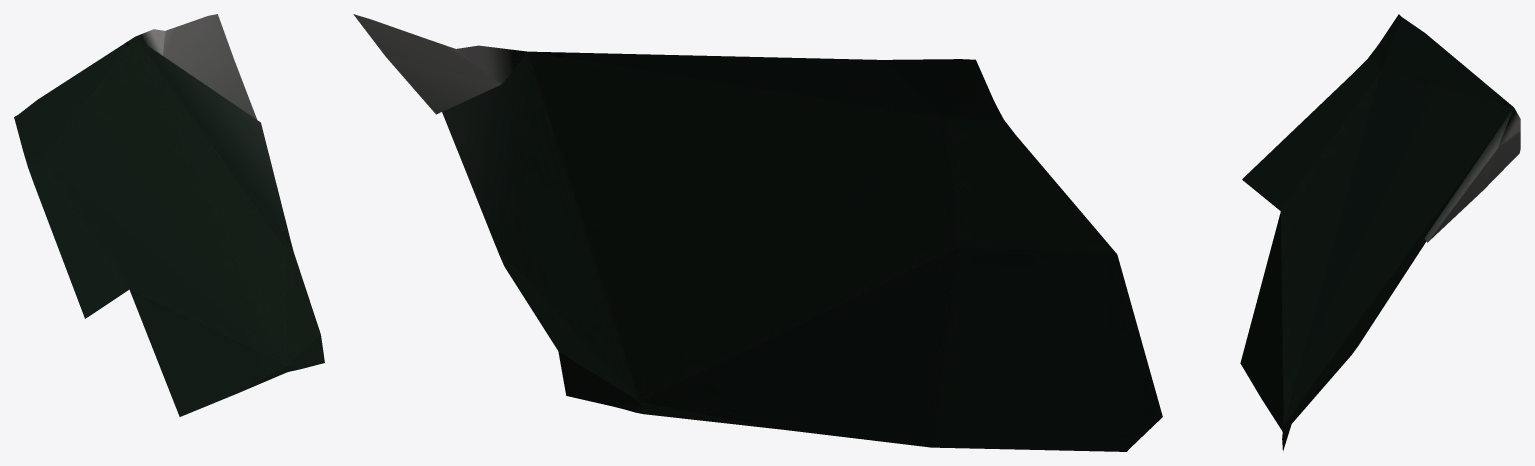
The picture shows the model from 3 angles, left to right: view 1: azimuth 30°, elevation 25°; view 2: azimuth 150°, elevation 25°; view 3: azimuth 270°, elevation 25°; orthographic projection. The views are drawn at different scales.
Size of the model in its own units: 0.8374 by 0.8374 by 0.8373.
3 materials, 3 textured.
